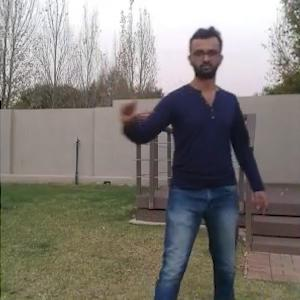land_hand: (115, 81, 156, 125)
